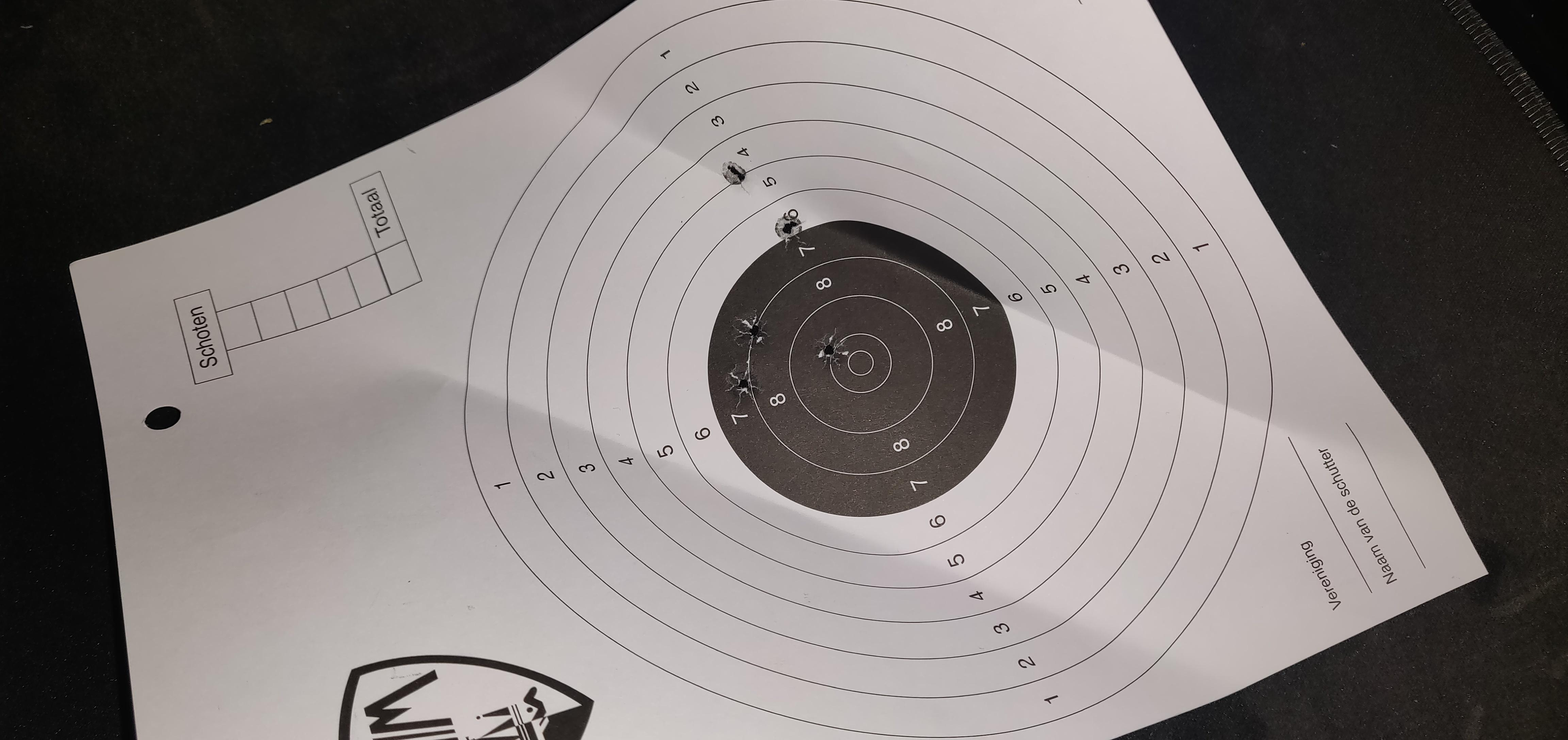hole: (826, 344, 912, 364), (698, 342, 801, 358), (785, 384, 873, 401), (1039, 365, 1115, 380), (1157, 341, 1227, 354)
